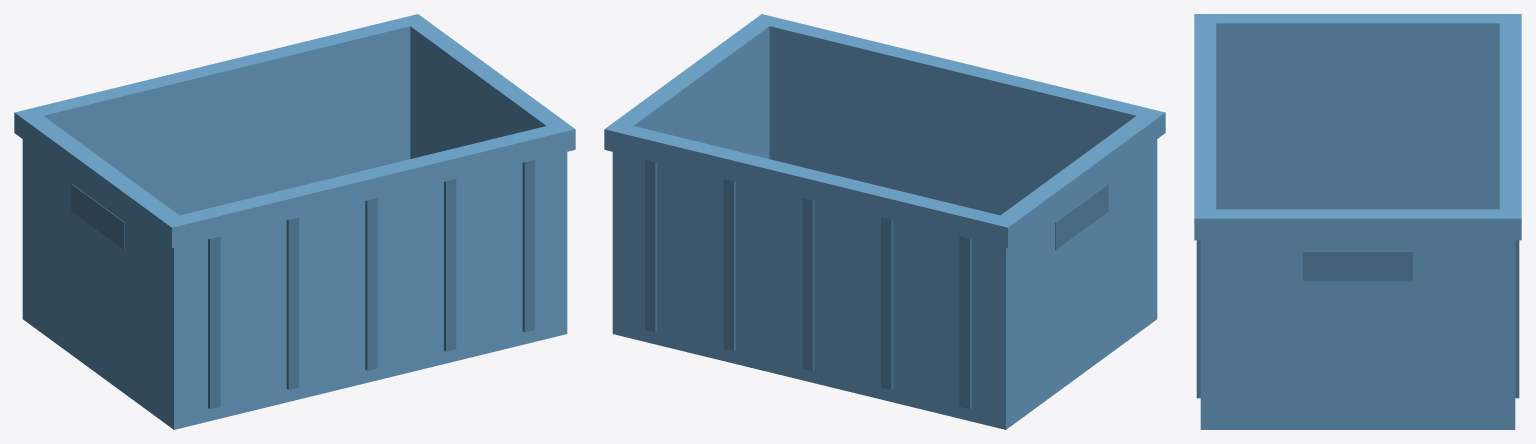
Rendered from engradado_medio.glb.
The picture shows the model from 3 angles, left to right: view 1: azimuth 30°, elevation 25°; view 2: azimuth 150°, elevation 25°; view 3: azimuth 270°, elevation 25°; orthographic projection. The views are drawn at different scales.
Visible parts, largest first — view 1: corpo; view 2: corpo; view 3: corpo.
Boxes of the visible parts, left/top/right/bottom form: corpo: left=14, top=14, right=575, bottom=429; corpo: left=604, top=14, right=1165, bottom=429; corpo: left=1194, top=14, right=1521, bottom=429.
Bounding box in the file's own units: 0.616 × 0.3 × 0.416.
